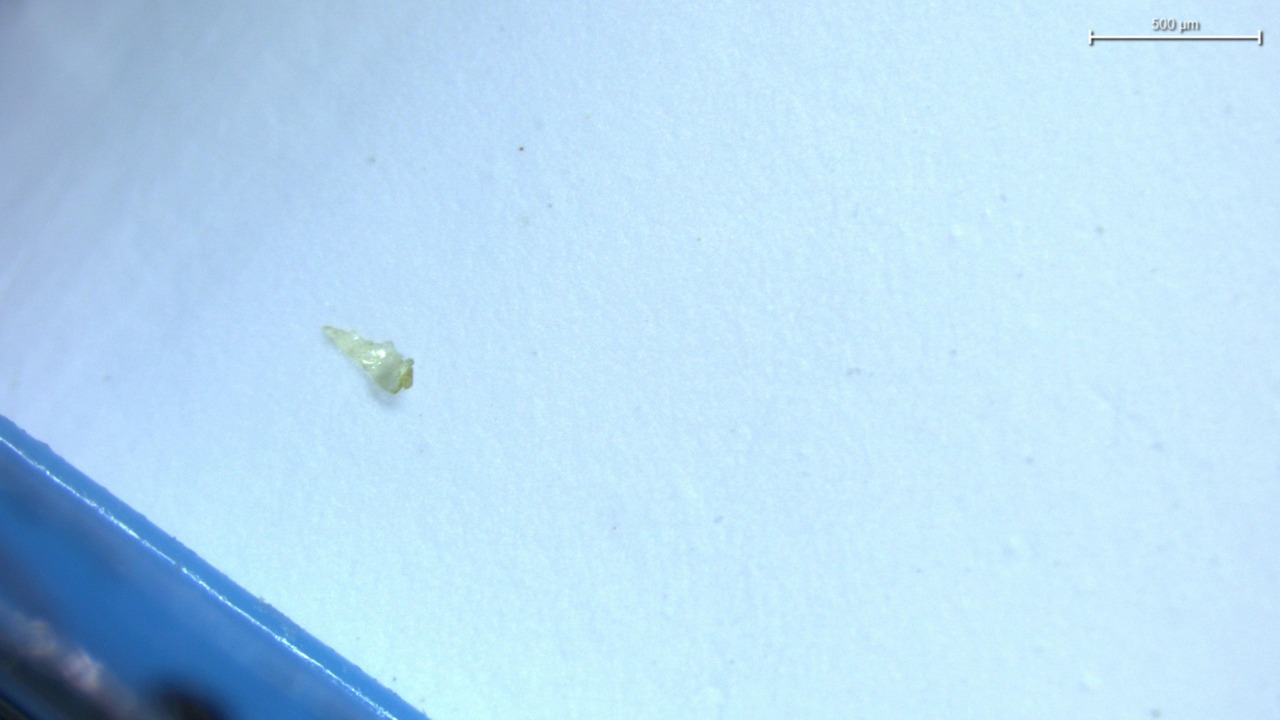microplastic_fragment: (322, 326, 413, 393)
